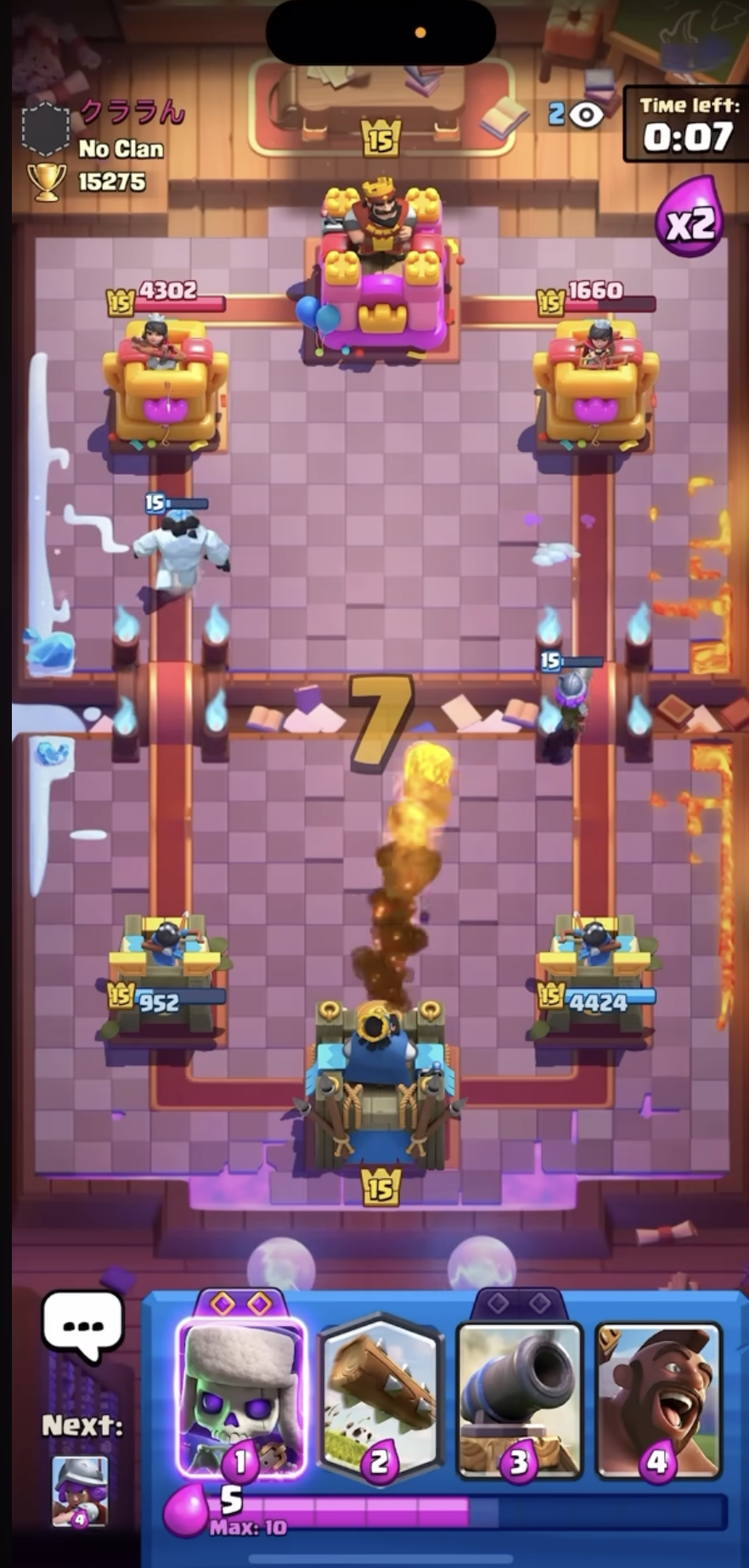fireball: (375, 723, 467, 857)
ice-golem: (127, 485, 231, 609)
musketeer: (538, 634, 603, 729)
